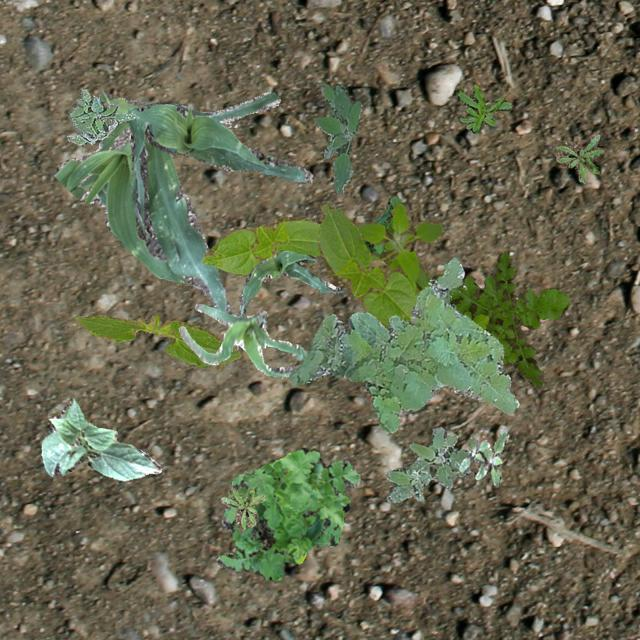crop: (52, 89, 278, 314), (126, 102, 312, 238), (316, 202, 416, 326), (41, 398, 160, 480), (178, 302, 306, 378), (74, 314, 240, 368), (236, 250, 342, 316), (202, 215, 320, 272)
weed: (288, 258, 518, 432), (215, 446, 358, 582), (430, 252, 568, 386), (354, 202, 444, 296), (384, 426, 478, 502), (314, 82, 360, 192), (66, 88, 134, 144), (458, 430, 508, 484), (456, 84, 511, 132), (552, 132, 602, 182), (363, 196, 401, 254), (220, 486, 264, 532)
